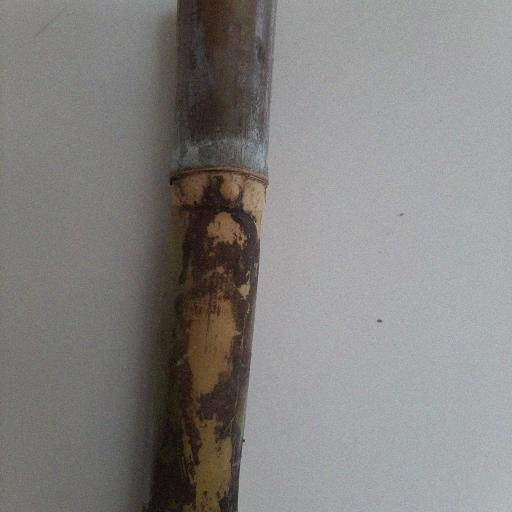Bud: (218, 176, 243, 204)
